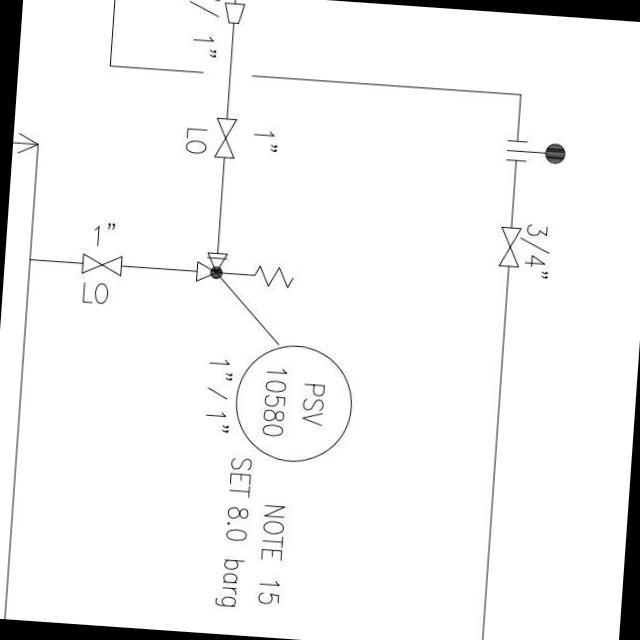GV: (72, 250, 129, 282), (494, 219, 525, 274), (210, 114, 240, 164)
RPV: (185, 245, 300, 298)
SP: (221, 0, 249, 27)
